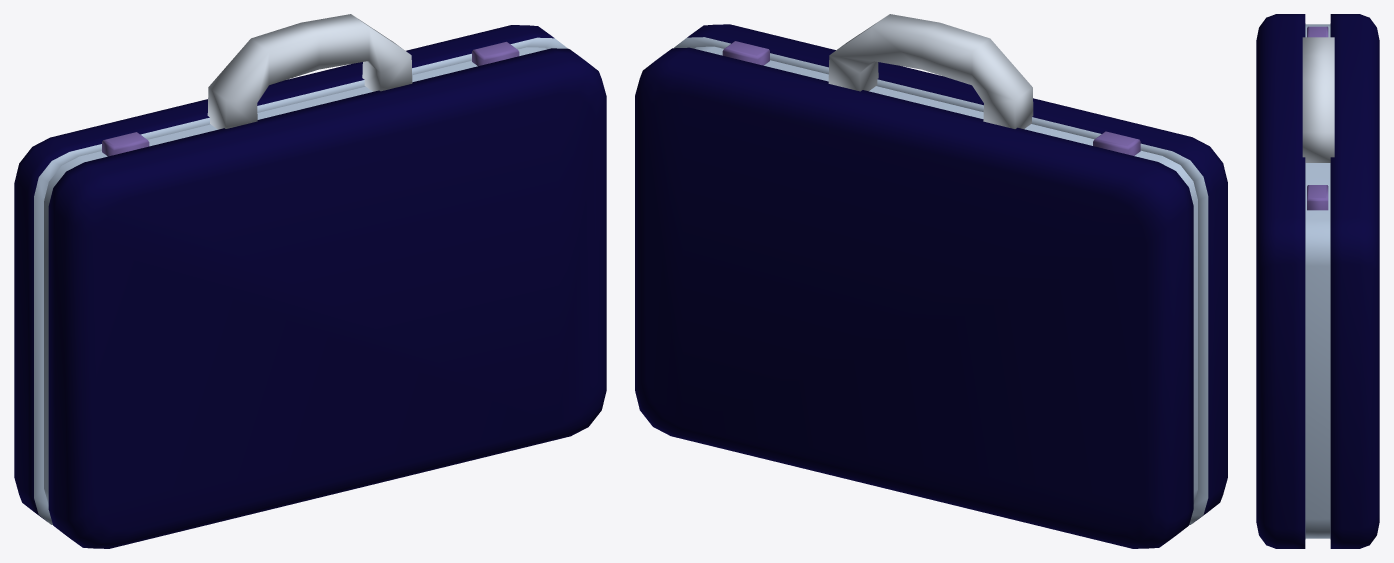
Rendered from Suitcase.fbx.
3 views of the same model, side by side, from view 1: azimuth 30°, elevation 25°; view 2: azimuth 150°, elevation 25°; view 3: azimuth 270°, elevation 25° (orthographic). The views are drawn at different scales.
Visible parts, largest first — view 1: Suitcase; view 2: Suitcase; view 3: Suitcase.
Boxes of the visible parts, x1,y1,x2,y2 form: Suitcase: (14, 14, 606, 548); Suitcase: (635, 14, 1227, 548); Suitcase: (1256, 14, 1379, 548).
Bounding box in the file's own units: 0.8007 × 0.6312 × 0.1809.
